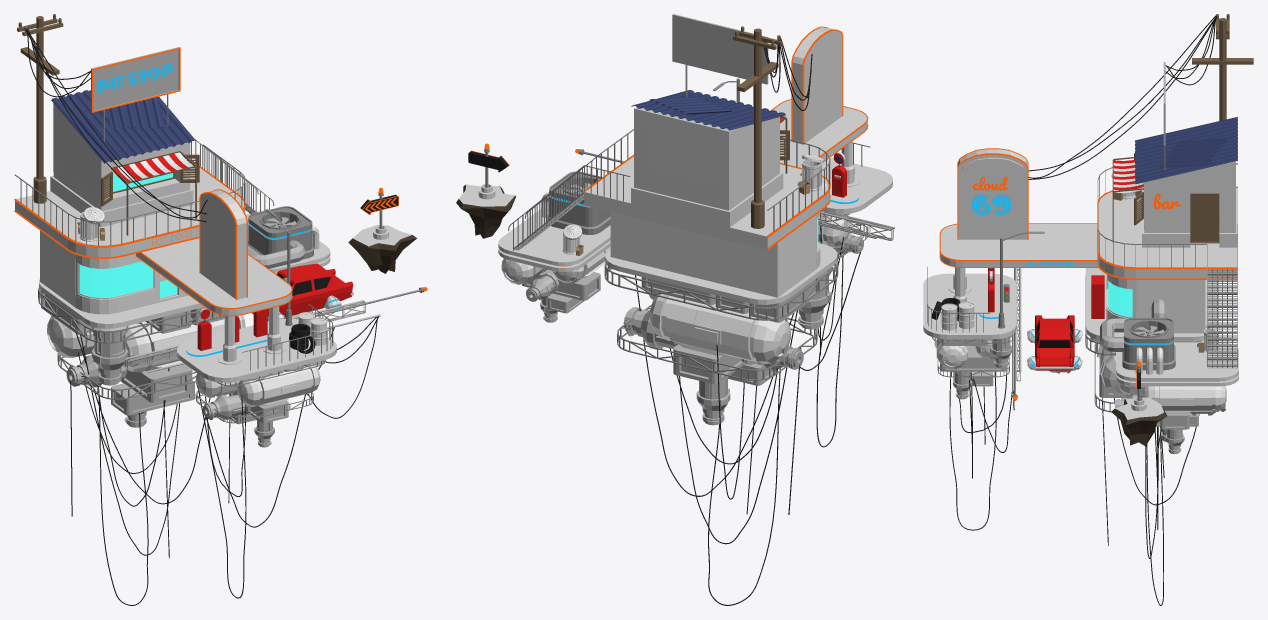
The model's file is cloud69.glb.
3 views of the same model, side by side, from view 1: azimuth 30°, elevation 25°; view 2: azimuth 150°, elevation 25°; view 3: azimuth 270°, elevation 25° (orthographic). The views are drawn at different scales.
Parts seen in each view (by area): view 1: Building, TankCluster.001, Cables, TankCluster.002, Bilboard, FirstFloorWindow, PowerSource, Streetpole, Car, RockIsland, Tent, Frame (+11 smaller); view 2: Building, TankCluster.001, Cables, Bilboard, TankCluster, Streetpole, PowerSource, RockIsland, TankCluster.002, Frame, Trashcan, SignStripes (+1 smaller); view 3: Building, Cables, TankCluster.002, TankCluster, PowerSource, Car, TankCluster.001, RockIsland, Streetpole, FirstFloorWindow, TubeMain, Tent (+10 smaller).
Boxes of the visible parts, x1,y1,x2,y2 form: Building: (15, 90, 336, 382); TankCluster.001: (38, 287, 245, 427); Cables: (26, 28, 378, 605); TankCluster.002: (195, 360, 325, 447); Bilboard: (91, 47, 180, 142); FirstFloorWindow: (76, 259, 181, 302); PowerSource: (248, 206, 313, 259); Streetpole: (17, 14, 63, 203); Car: (252, 263, 353, 317); RockIsland: (348, 225, 416, 273); Tent: (111, 151, 196, 235); Frame: (125, 289, 420, 372); Building: (498, 27, 892, 304); TankCluster.001: (604, 260, 838, 425); Cables: (635, 37, 860, 605); Bilboard: (672, 14, 768, 115); TankCluster: (501, 246, 610, 322); Streetpole: (733, 26, 782, 228); PowerSource: (547, 171, 610, 234); RockIsland: (456, 184, 516, 238); TankCluster.002: (818, 213, 867, 258); Frame: (582, 151, 894, 240); Trashcan: (797, 154, 827, 194); SignStripes: (791, 26, 843, 144); Building: (923, 117, 1238, 386); Cables: (949, 15, 1216, 605); TankCluster.002: (932, 334, 1013, 399); TankCluster: (1115, 383, 1226, 454); PowerSource: (1122, 318, 1175, 370); Car: (1034, 315, 1074, 370); TankCluster.001: (1085, 275, 1218, 441); RockIsland: (1111, 397, 1167, 446); Streetpole: (1192, 14, 1253, 120); FirstFloorWindow: (1106, 275, 1136, 318); TubeMain: (1100, 299, 1166, 351); Tent: (1112, 157, 1143, 240).
Bounding box in the file's own units: 7.81 × 12.47 × 6.72.
